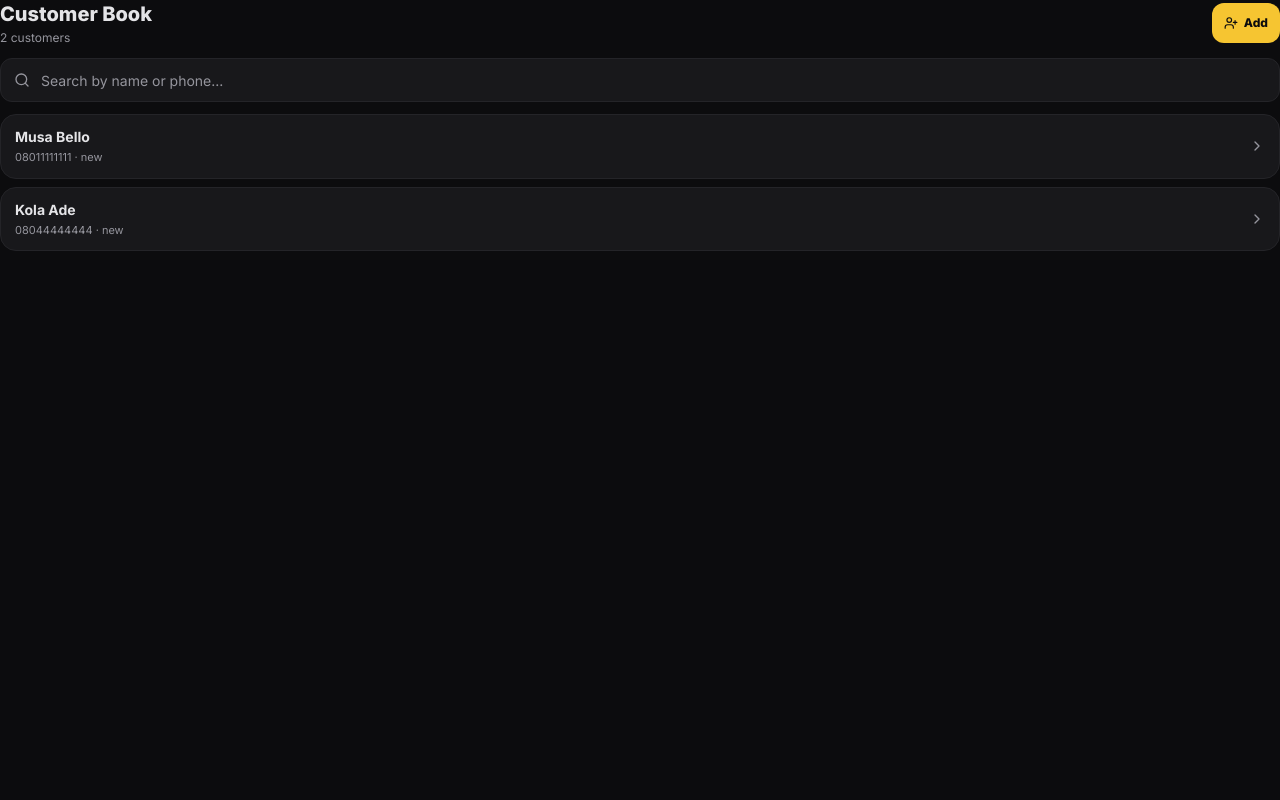
it: a customer's page › shows a worker the bundles and what is owed, but not the takings
Click the button "Musa Bello 08011111111 · new" at (52, 136), box [1,115,1279,178]
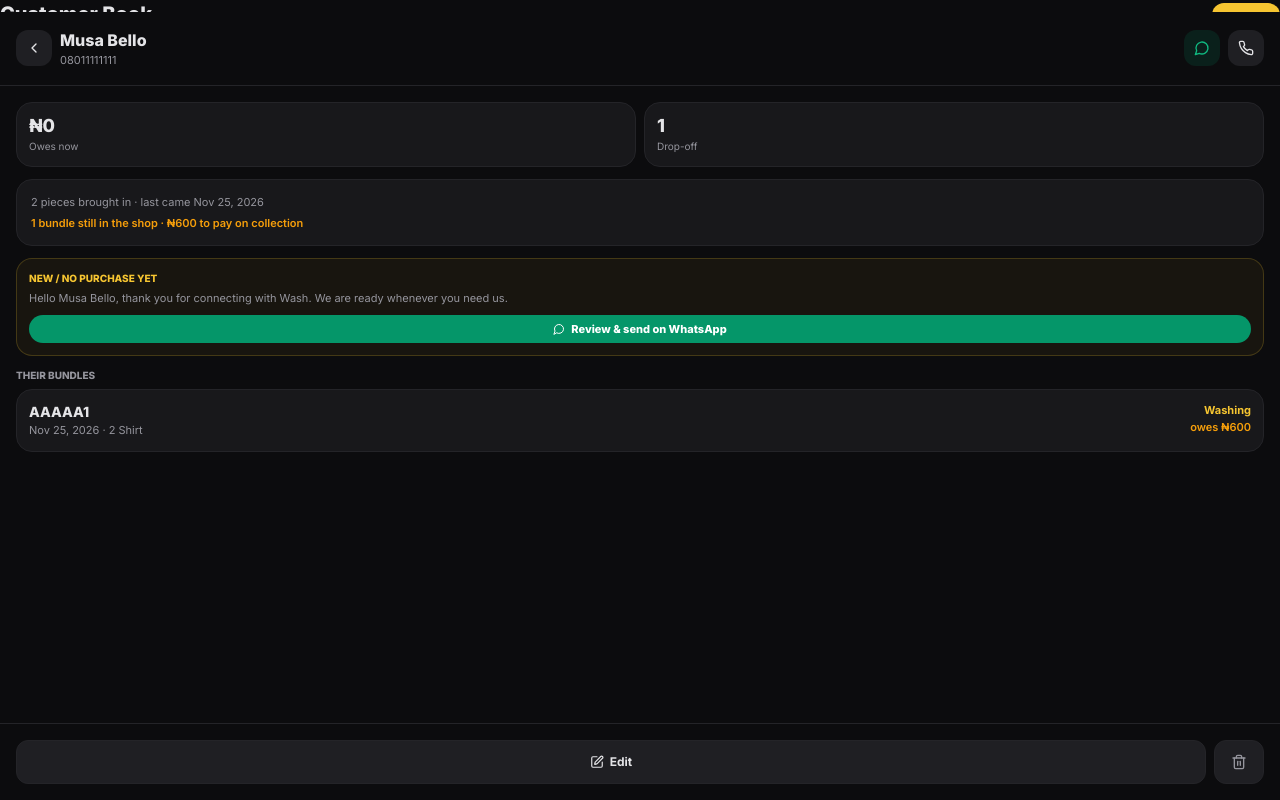
Expected: the text "AAAAA1" is shown, [29,403,89,420]
Expected: the text "Owes now" is shown, [29,140,78,152]
